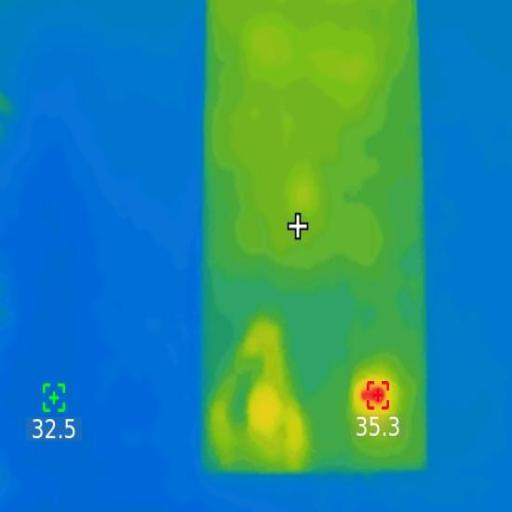hotspot: (361, 381, 390, 411)
